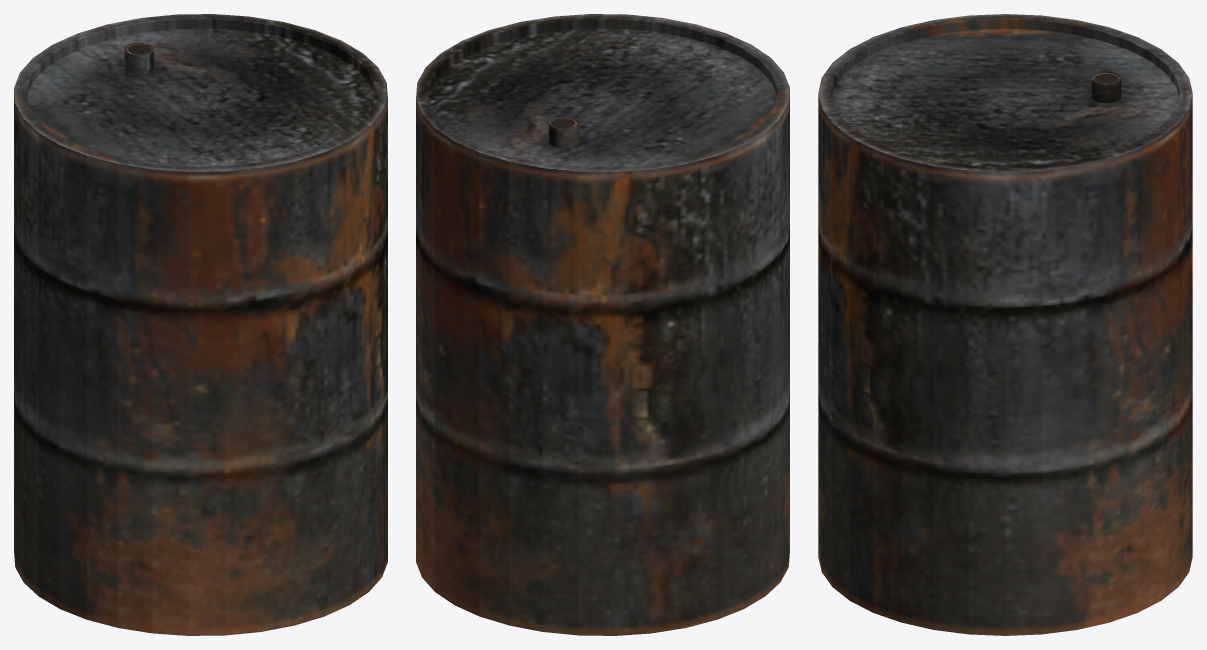
File: barrel2.obj
The picture shows the model from 3 angles, left to right: view 1: azimuth 30°, elevation 25°; view 2: azimuth 150°, elevation 25°; view 3: azimuth 270°, elevation 25°; orthographic projection.
Visible parts, largest first — view 1: Цилиндр.001_Цилиндр.003; view 2: Цилиндр.001_Цилиндр.003; view 3: Цилиндр.001_Цилиндр.003.
Boxes of the visible parts, box(x1,y1,x2,y2) form: Цилиндр.001_Цилиндр.003: box(14, 14, 387, 635); Цилиндр.001_Цилиндр.003: box(416, 14, 789, 635); Цилиндр.001_Цилиндр.003: box(818, 14, 1192, 635).
Size of the model in its own units: 0.729 by 1.02 by 0.729.
